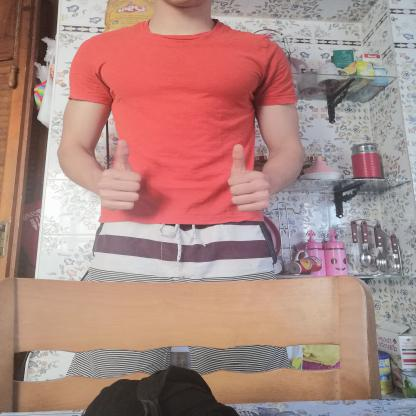ALIF: (215, 133, 283, 217), (88, 132, 152, 216)
